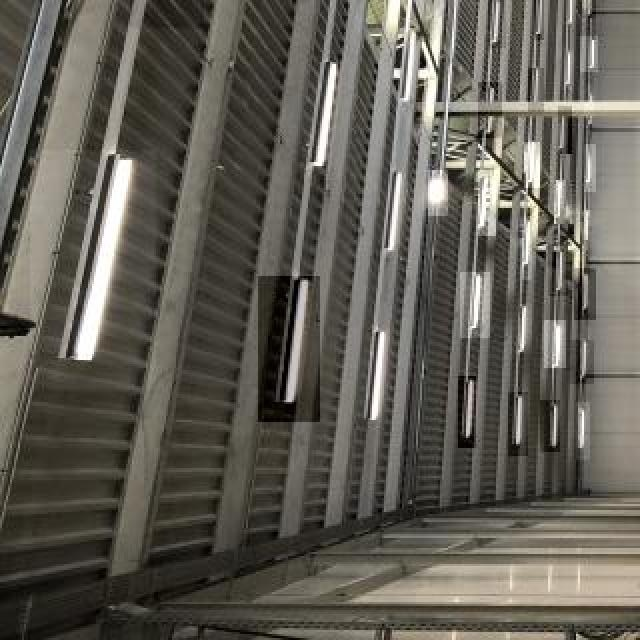fluorescent tube: (49, 153, 138, 369), (267, 269, 324, 420), (298, 46, 355, 178), (366, 309, 397, 429), (378, 167, 407, 255), (394, 27, 422, 104), (466, 269, 494, 342), (475, 169, 500, 231), (509, 389, 529, 462), (571, 333, 594, 391), (544, 318, 569, 371), (460, 377, 478, 446), (549, 243, 573, 293), (482, 0, 510, 42), (549, 173, 569, 231), (516, 300, 536, 356), (555, 49, 580, 93), (478, 86, 498, 138), (531, 63, 551, 114), (581, 85, 603, 131), (575, 264, 593, 320), (522, 142, 545, 185), (576, 207, 602, 245), (544, 398, 564, 446), (555, 104, 577, 147), (582, 144, 600, 191), (530, 0, 550, 42), (582, 40, 602, 80), (577, 407, 595, 444), (558, 0, 580, 28), (582, 0, 600, 22), (132, 0, 204, 4), (526, 220, 529, 264)
